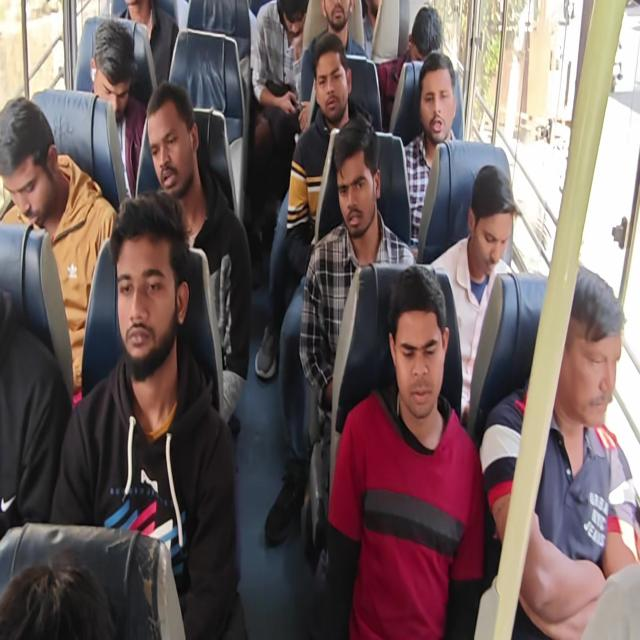person: (109, 187, 186, 376), (546, 253, 626, 431), (0, 517, 115, 638), (380, 271, 456, 426), (2, 72, 65, 228), (326, 112, 384, 245), (142, 80, 206, 193), (466, 153, 517, 283), (82, 15, 134, 119), (413, 53, 461, 135), (312, 34, 348, 119), (409, 2, 447, 65), (274, 2, 312, 42), (325, 0, 353, 24)
